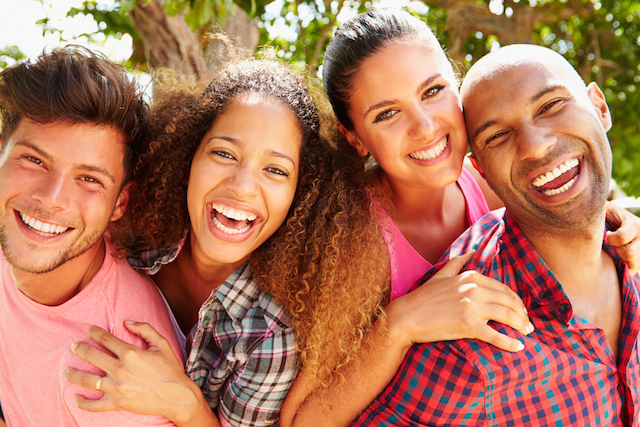bare: (498, 133, 613, 226), (1, 188, 106, 274), (186, 178, 290, 259), (369, 118, 472, 187)
